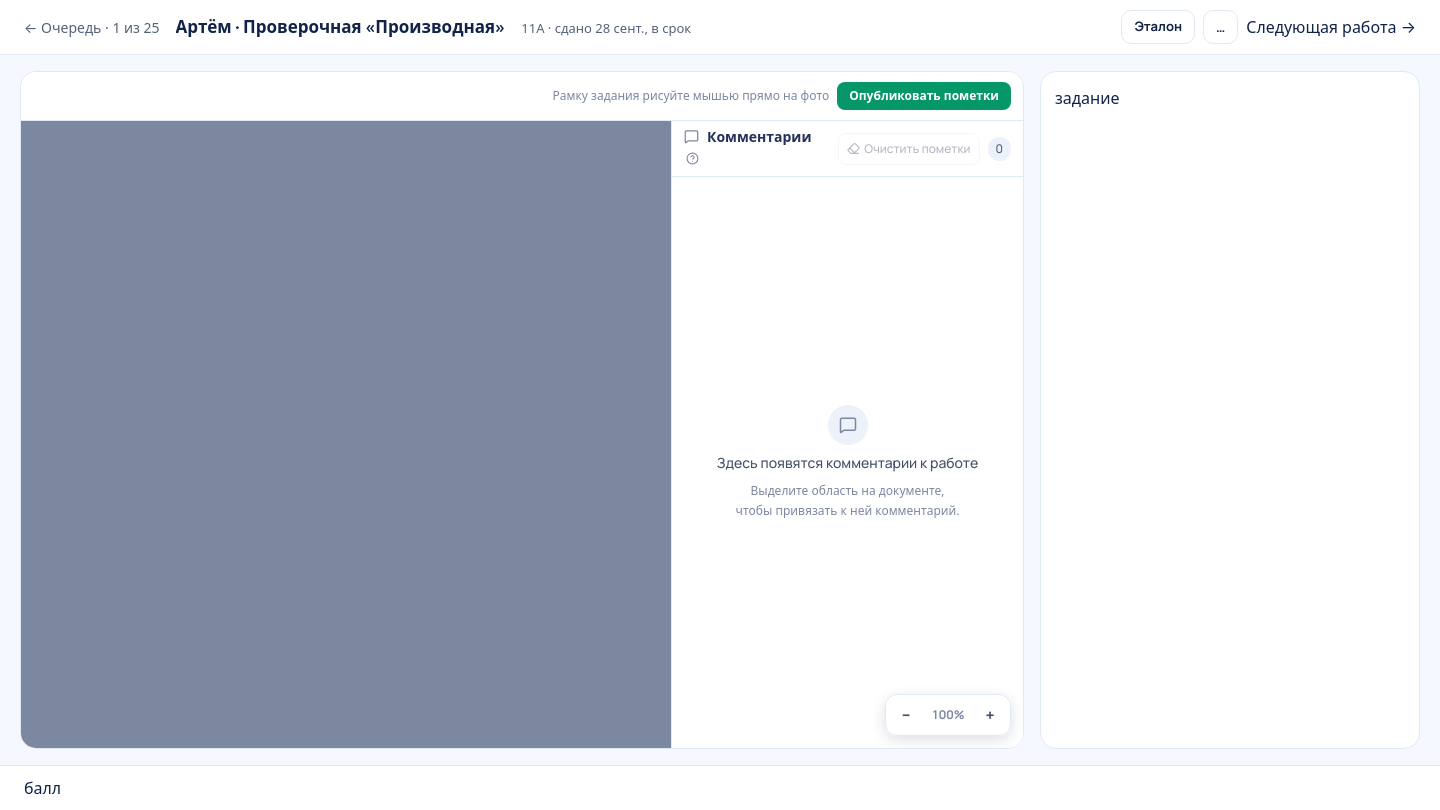
Scenario: §248 — шапка и меню «…» › свои пункты экрана — в том же меню, нажатие зовёт обработчик
Click the button with test id "attempt-more-menu" at [1221, 27], box [1203,10,1238,44]
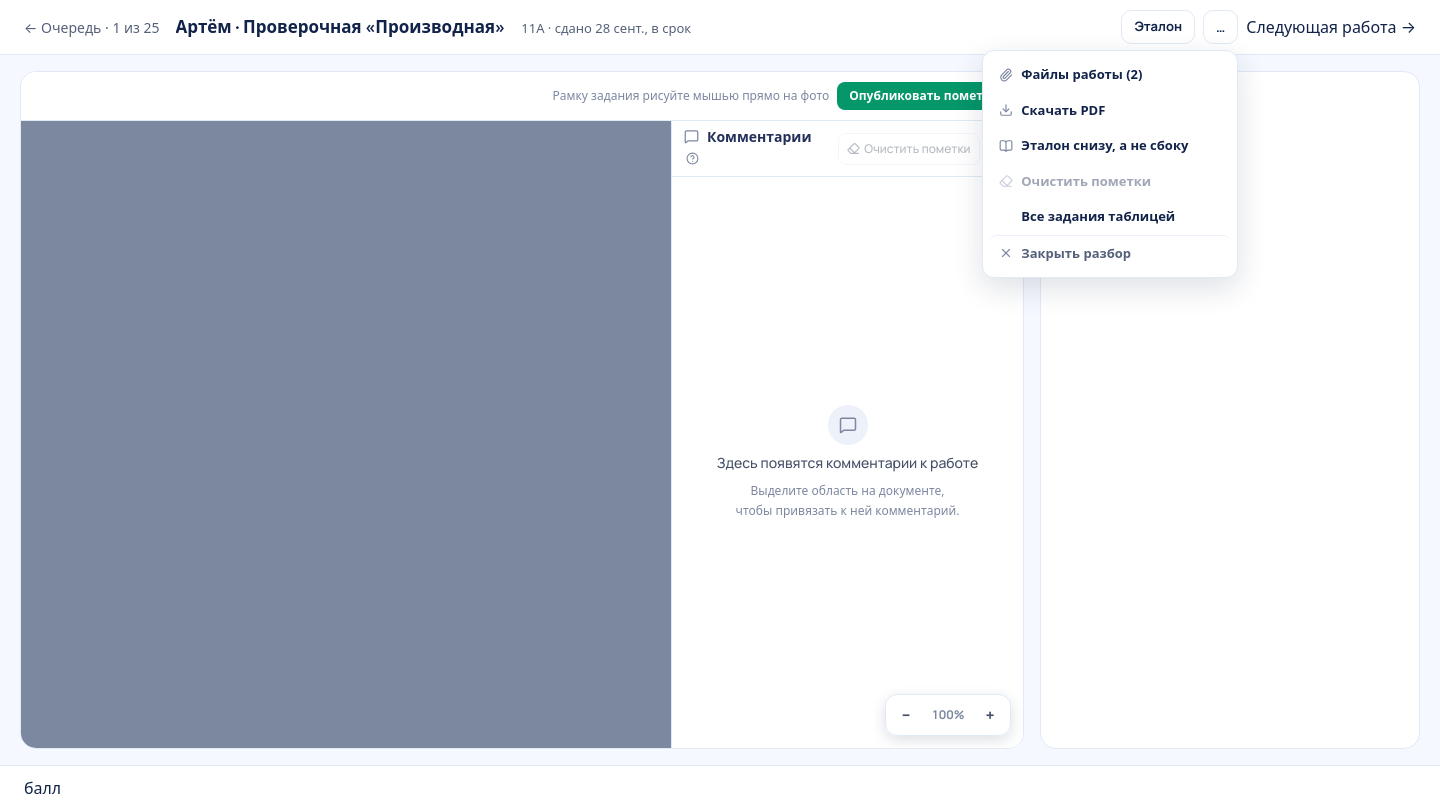
Click the menu item with test id "review-open-table" at [1110, 217], box [989,199,1231,234]
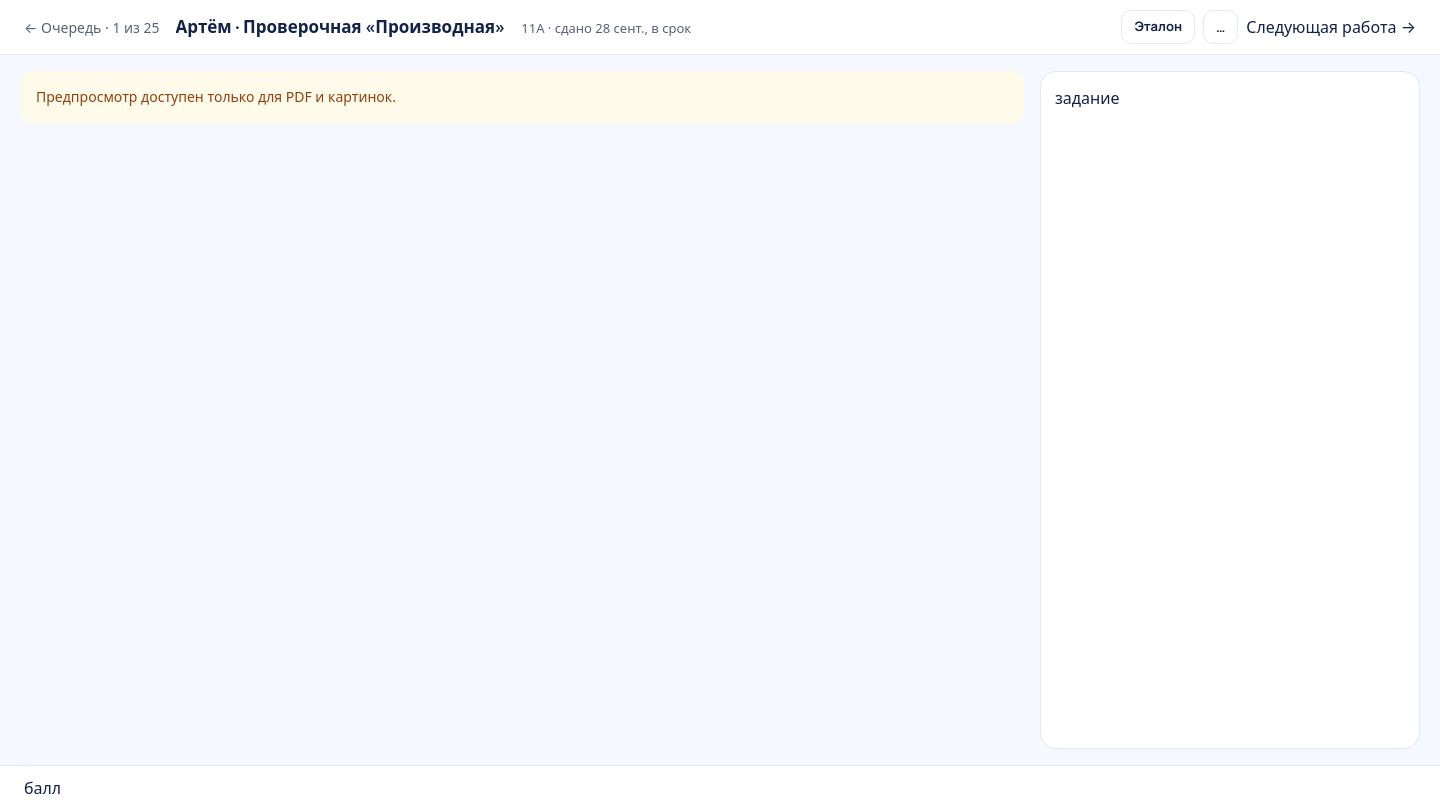
Result: the menu with test id "attempt-more-menu-list" is gone
